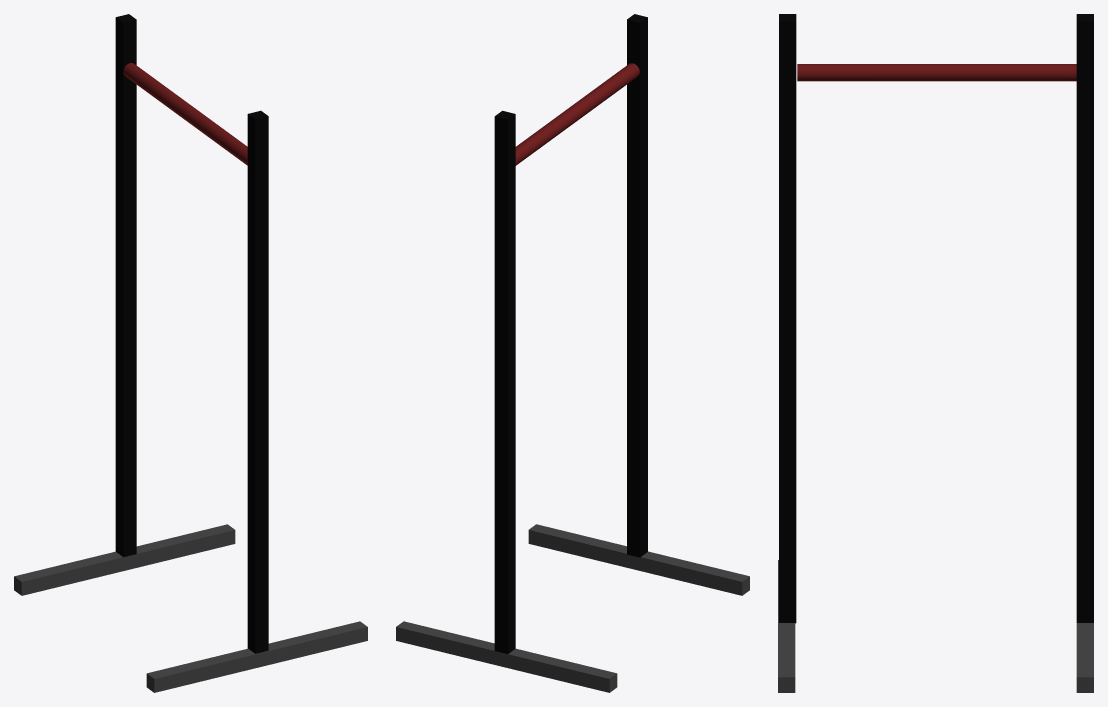
The model's file is barfiks.fbx.
3 views of the same model, side by side, from view 1: azimuth 30°, elevation 25°; view 2: azimuth 150°, elevation 25°; view 3: azimuth 270°, elevation 25° (orthographic). The views are drawn at different scales.
Visible parts, largest first — view 1: Cube.003, Cube.002, Cube, Cube.001, Cylinder; view 2: Cube.002, Cube.003, Cube.001, Cube, Cylinder; view 3: Cube.003, Cube.002, Cylinder, Cube, Cube.001.
Boxes of the visible parts, x1,y1,x2,y2 form: Cube.003: (247, 110, 268, 653); Cube.002: (115, 14, 136, 557); Cube: (146, 621, 367, 692); Cube.001: (14, 524, 235, 595); Cylinder: (123, 63, 247, 165); Cube.002: (494, 110, 515, 653); Cube.003: (627, 14, 647, 557); Cube.001: (396, 621, 617, 692); Cube: (528, 524, 749, 595); Cylinder: (515, 63, 639, 165); Cube.003: (779, 14, 796, 623); Cube.002: (1076, 14, 1093, 622); Cylinder: (797, 64, 1076, 81); Cube: (778, 560, 795, 692); Cube.001: (1076, 623, 1093, 692).
Bounding box in the file's own units: 1600 × 3926 × 1820.
